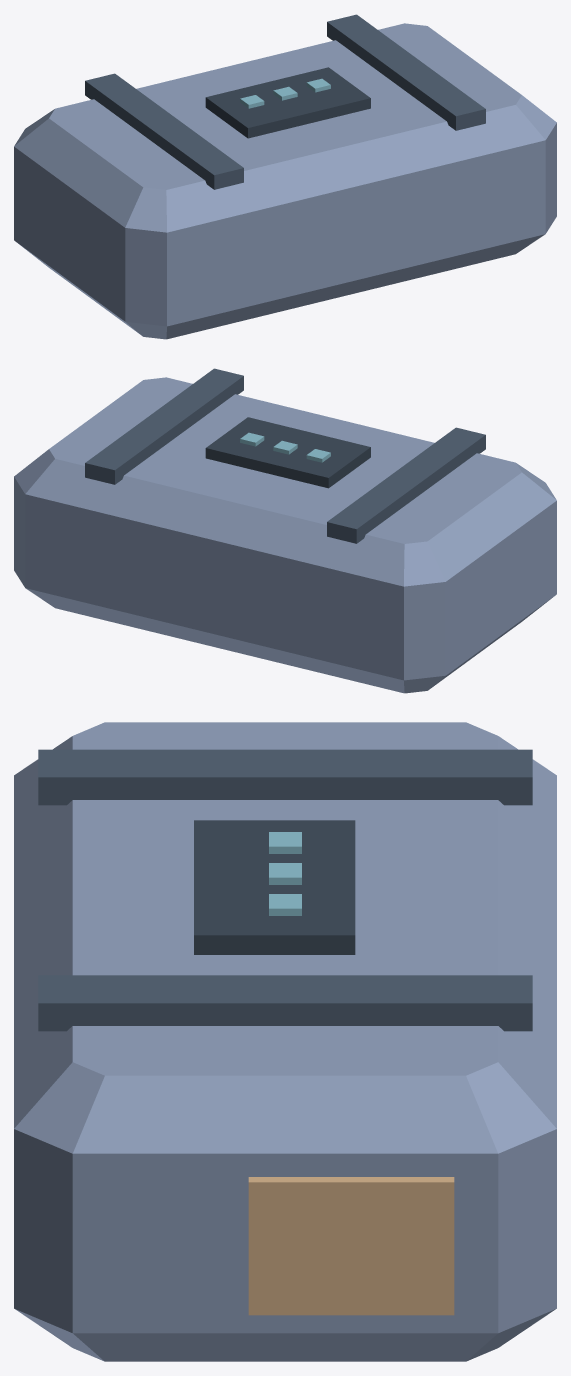
File: battery-long.glb
The picture shows the model from 3 angles, top to bottom: view 1: azimuth 30°, elevation 25°; view 2: azimuth 150°, elevation 25°; view 3: azimuth 270°, elevation 25°; orthographic projection. The views are drawn at different scales.
Visible parts, largest first — view 1: 000_battery_pack, 003_cell_status, 001_retaining_straps, 002_retaining_straps; view 2: 000_battery_pack, 003_cell_status, 001_retaining_straps, 002_retaining_straps; view 3: 000_battery_pack, 007_power_connector, 001_retaining_straps, 002_retaining_straps, 003_cell_status.
Part boxes in pixels (x1,y1,x2,y2): 000_battery_pack: (14,23,556,339); 003_cell_status: (205,67,370,138); 001_retaining_straps: (85,73,243,189); 002_retaining_straps: (327,14,485,130); 000_battery_pack: (14,377,556,693); 003_cell_status: (205,417,370,488); 001_retaining_straps: (327,427,485,543); 002_retaining_straps: (85,368,243,484); 000_battery_pack: (14,722,556,1361); 007_power_connector: (248,1177,454,1315); 001_retaining_straps: (38,749,532,805); 002_retaining_straps: (38,975,532,1031); 003_cell_status: (194,820,355,954).
Size of the model in its own units: 1.32 by 0.473 by 0.74.
